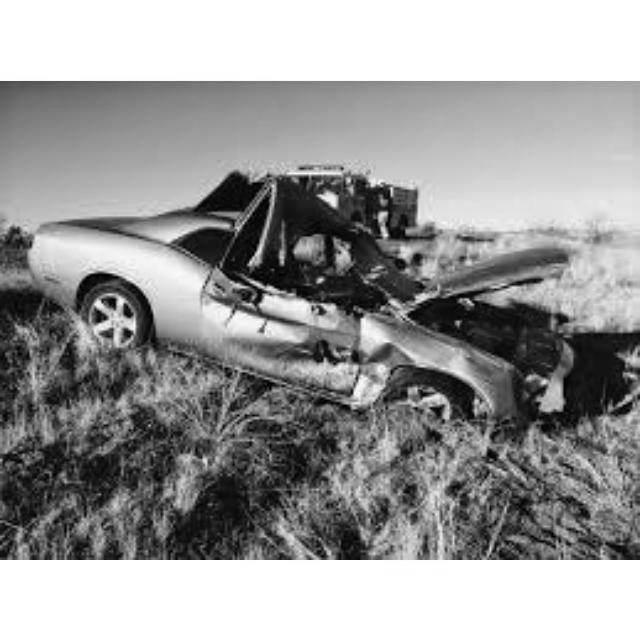doorouter-dent: (245, 300, 375, 398)
fender-dent: (378, 330, 506, 386)
